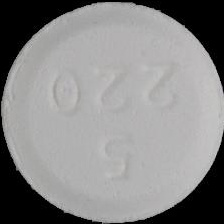0574-0220: (0, 0, 224, 224)
